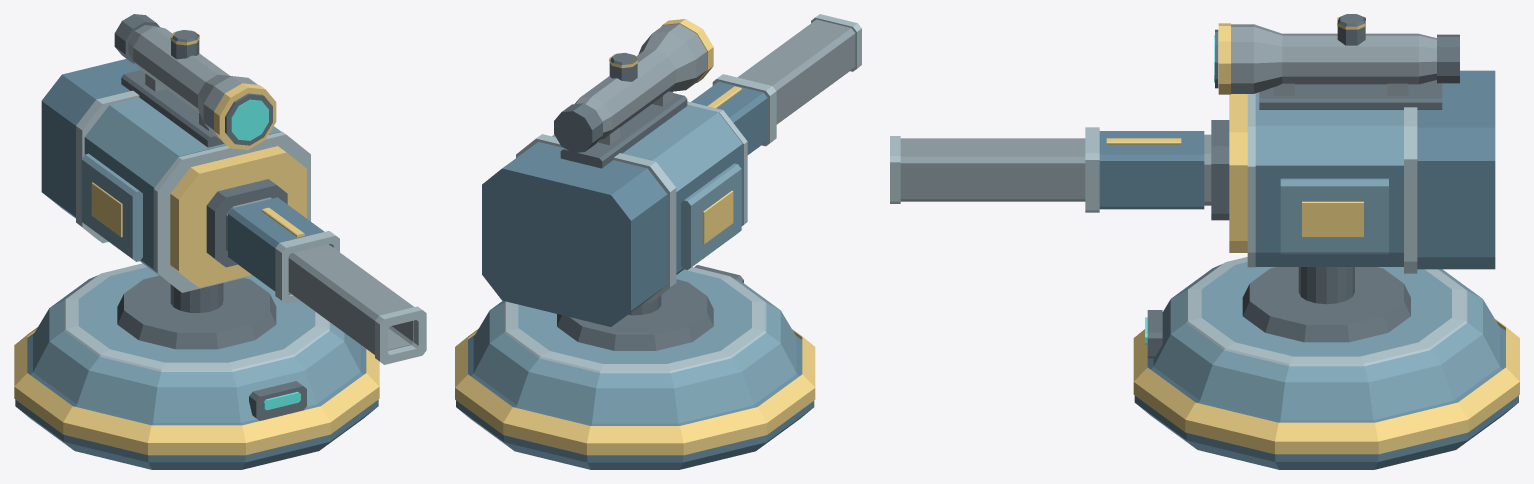
3 views of the same model, side by side, from view 1: azimuth 30°, elevation 25°; view 2: azimuth 150°, elevation 25°; view 3: azimuth 270°, elevation 25° (orthographic). The views are drawn at different scales.
Parts seen in each view (by area): view 1: UpperArmor, PrecisionTurret_Base; view 2: UpperArmor, PrecisionTurret_Base; view 3: UpperArmor, PrecisionTurret_Base.
Boxes of the visible parts, bbox=[...] form: UpperArmor: bbox=[41, 14, 426, 364]; PrecisionTurret_Base: bbox=[14, 263, 379, 469]; UpperArmor: bbox=[482, 14, 861, 326]; PrecisionTurret_Base: bbox=[455, 265, 815, 469]; UpperArmor: bbox=[890, 14, 1495, 273]; PrecisionTurret_Base: bbox=[1133, 257, 1519, 469].
Bounding box in the file's own units: 2.18 × 2.34 × 3.55.
